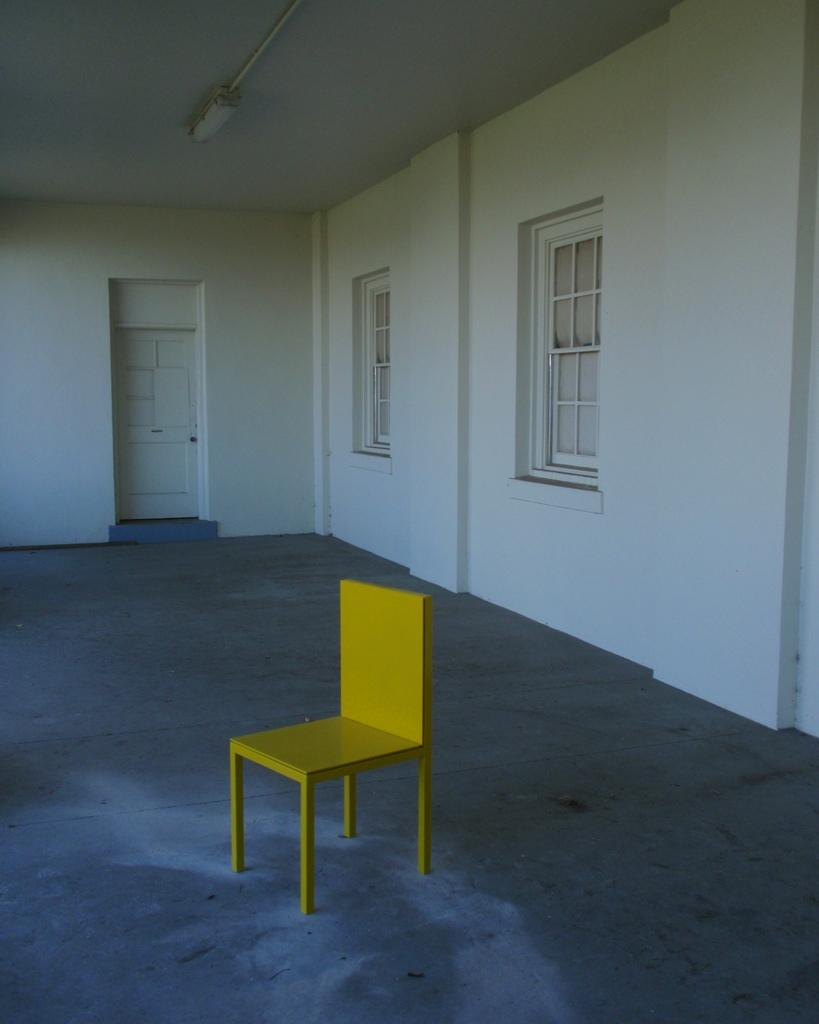Chair: (234, 574, 430, 914)
